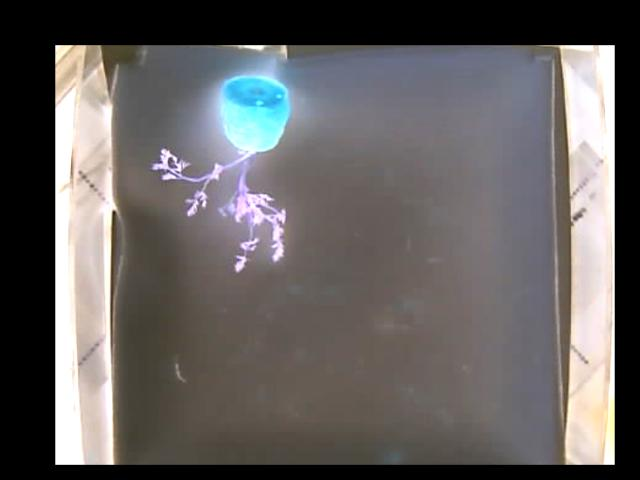Carrot: (151, 74, 287, 268)
